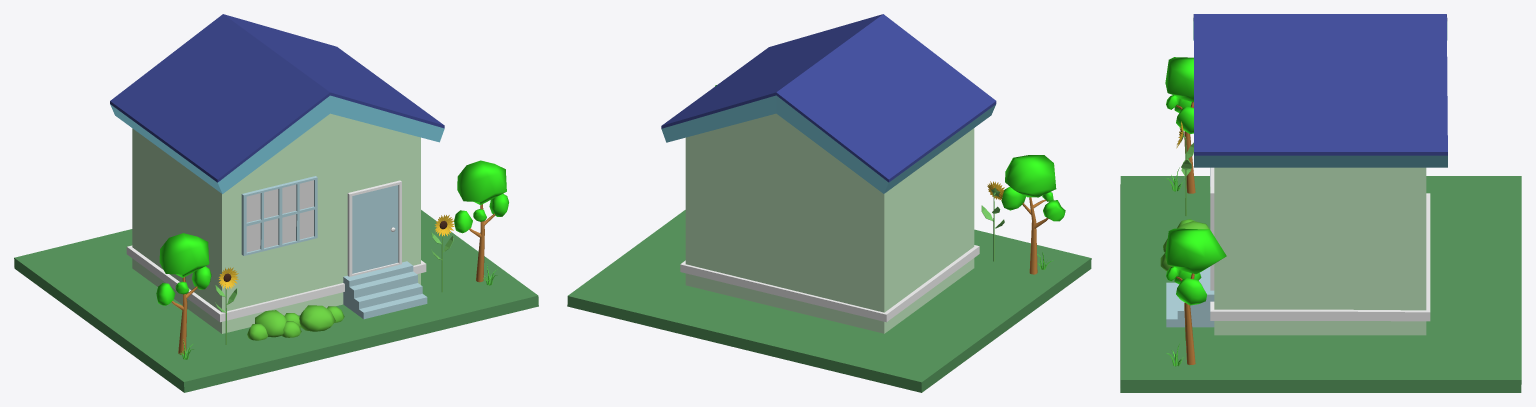
Rendered from house-7.fbx.
3 views of the same model, side by side, from view 1: azimuth 30°, elevation 25°; view 2: azimuth 150°, elevation 25°; view 3: azimuth 270°, elevation 25° (orthographic). The views are drawn at different scales.
Parts seen in each view (by area): view 1: Cube, Cube.001, Plane, big window 1.001, Cube.005, Cube.002, tree_1.006, tree_1.001, Icosphere.007, Icosphere, Icosphere.005, Icosphere.008; view 2: Cube, Plane, Cube.001, tree_1.001, Icosphere.005; view 3: Plane, Cube.001, Cube, tree_1.006, tree_1.001, Cube.002, Cube.005, Icosphere.005.
Boxes of the visible parts, x1,y1,x2,y2 form: Cube: (126, 113, 426, 333); Cube.001: (110, 14, 444, 193); Plane: (14, 210, 538, 392); big window 1.001: (241, 176, 317, 255); Cube.005: (347, 180, 401, 276); Cube.002: (343, 261, 427, 319); tree_1.006: (454, 160, 508, 282); tree_1.001: (156, 233, 211, 354); Icosphere.007: (299, 305, 335, 331); Icosphere: (255, 310, 286, 337); Icosphere.005: (215, 267, 238, 344); Icosphere.008: (431, 215, 454, 292); Cube: (680, 113, 979, 333); Plane: (567, 210, 1091, 392); Cube.001: (661, 14, 996, 193); tree_1.001: (1001, 155, 1065, 274); Icosphere.005: (981, 181, 1004, 261); Plane: (1120, 176, 1521, 392); Cube.001: (1193, 14, 1447, 167); Cube: (1210, 167, 1430, 335); tree_1.006: (1165, 228, 1226, 364); tree_1.001: (1165, 57, 1195, 193); Cube.002: (1166, 266, 1214, 327); Cube.005: (1210, 167, 1214, 290); Icosphere.005: (1176, 121, 1193, 216).
Size of the model in its own units: 2956 by 1863 by 2448.
